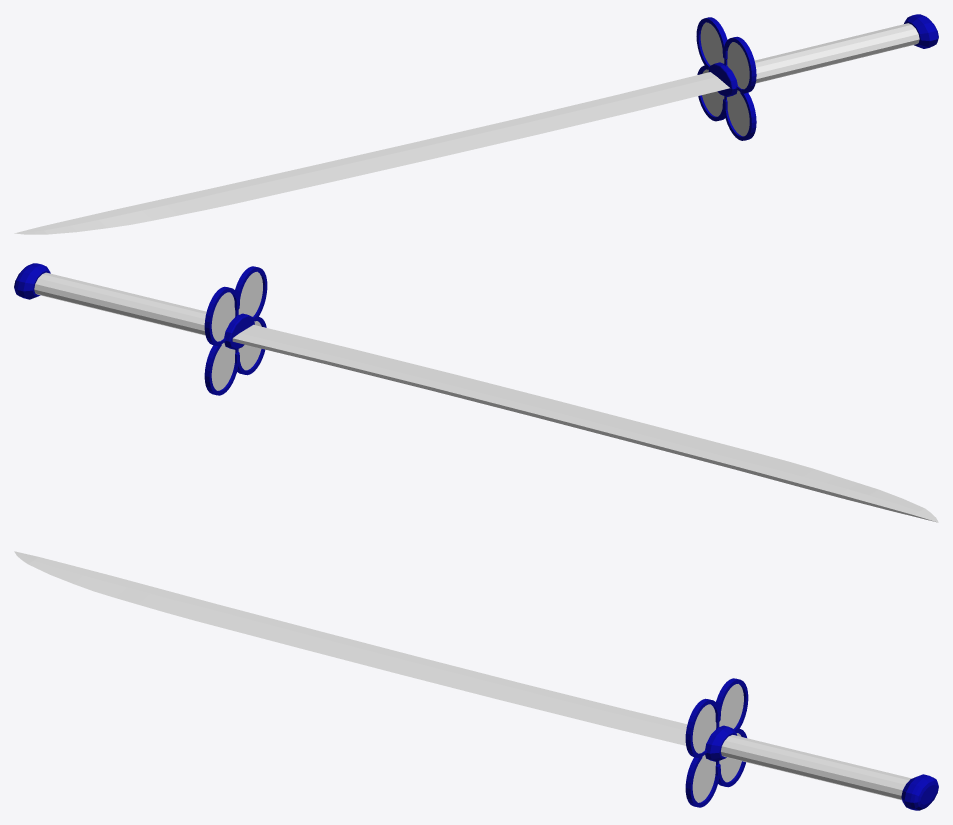
The model's file is Sword.fbx.
3 views of the same model, one above another, from view 1: azimuth 30°, elevation 25°; view 2: azimuth 150°, elevation 25°; view 3: azimuth 330°, elevation 25° (orthographic). The views are drawn at different scales.
Parts seen in each view (by area): view 1: Sword; view 2: Sword; view 3: Sword.
Boxes of the visible parts, left/top/right/bottom form: Sword: left=14, top=14, right=938, bottom=234; Sword: left=14, top=263, right=938, bottom=522; Sword: left=14, top=551, right=938, bottom=810.
Bounding box in the file's own units: 85.5 × 9.02 × 9.15.
